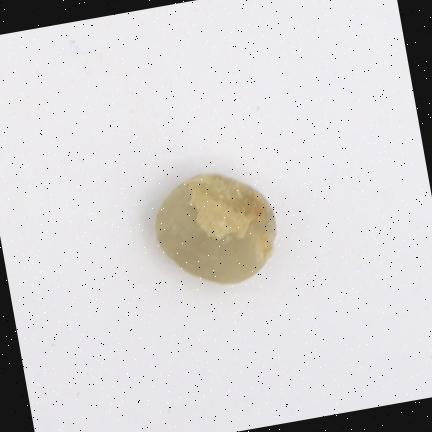husk: (156, 175, 277, 283)
